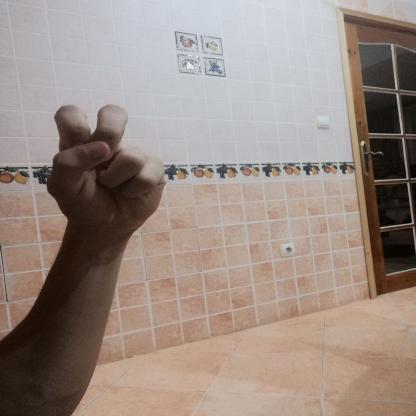QAAF: (23, 87, 184, 249)
